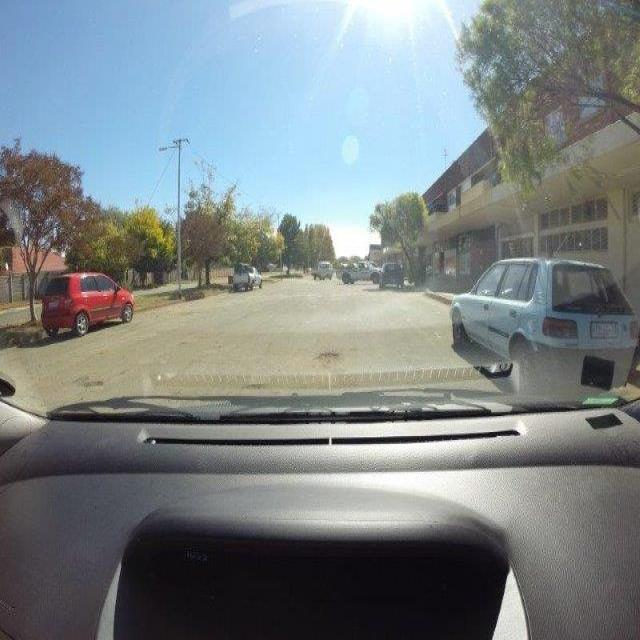lubang: (71, 365, 110, 391), (314, 349, 337, 362)
